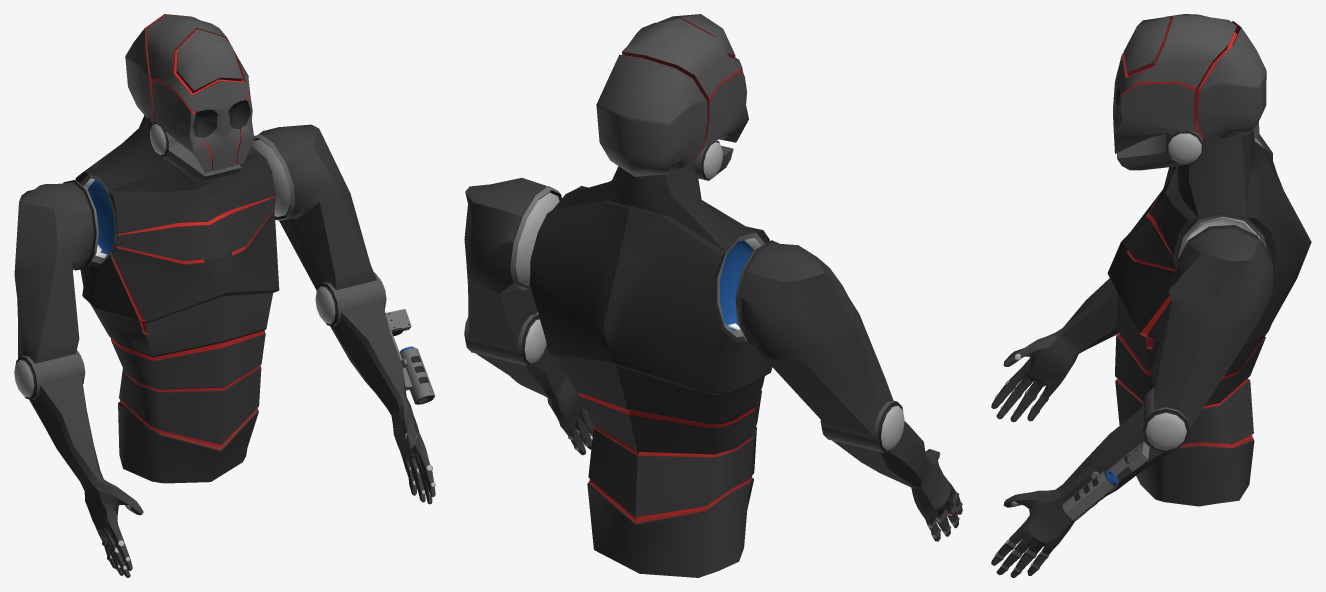
The model's file is player_vecrody_asset.fbx.
3 views of the same model, side by side, from view 1: azimuth 30°, elevation 25°; view 2: azimuth 150°, elevation 25°; view 3: azimuth 270°, elevation 25° (orthographic). The views are drawn at different scales.
Visible parts, largest first — view 1: body, left_arm, right_arm; view 2: body, right_arm, left_arm; view 3: body, left_arm, right_arm.
Part boxes in pixels (x1=…): body: x1=75, y1=14, x2=279, y2=483; left_arm: x1=251, y1=124, x2=435, y2=504; right_arm: x1=14, y1=180, x2=143, y2=577; body: x1=529, y1=14, x2=772, y2=577; right_arm: x1=735, y1=240, x2=962, y2=541; left_arm: x1=464, y1=177, x2=594, y2=455; body: x1=1107, y1=14, x2=1311, y2=506; left_arm: x1=991, y1=225, x2=1272, y2=577; right_arm: x1=991, y1=121, x2=1272, y2=422.
Bounding box in the file's own units: 10.22 × 11.9 × 7.15.
